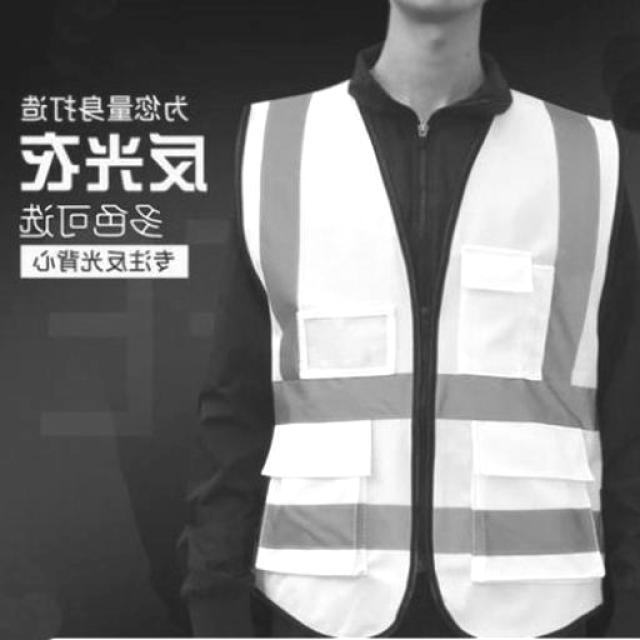vest: (221, 82, 640, 632)
